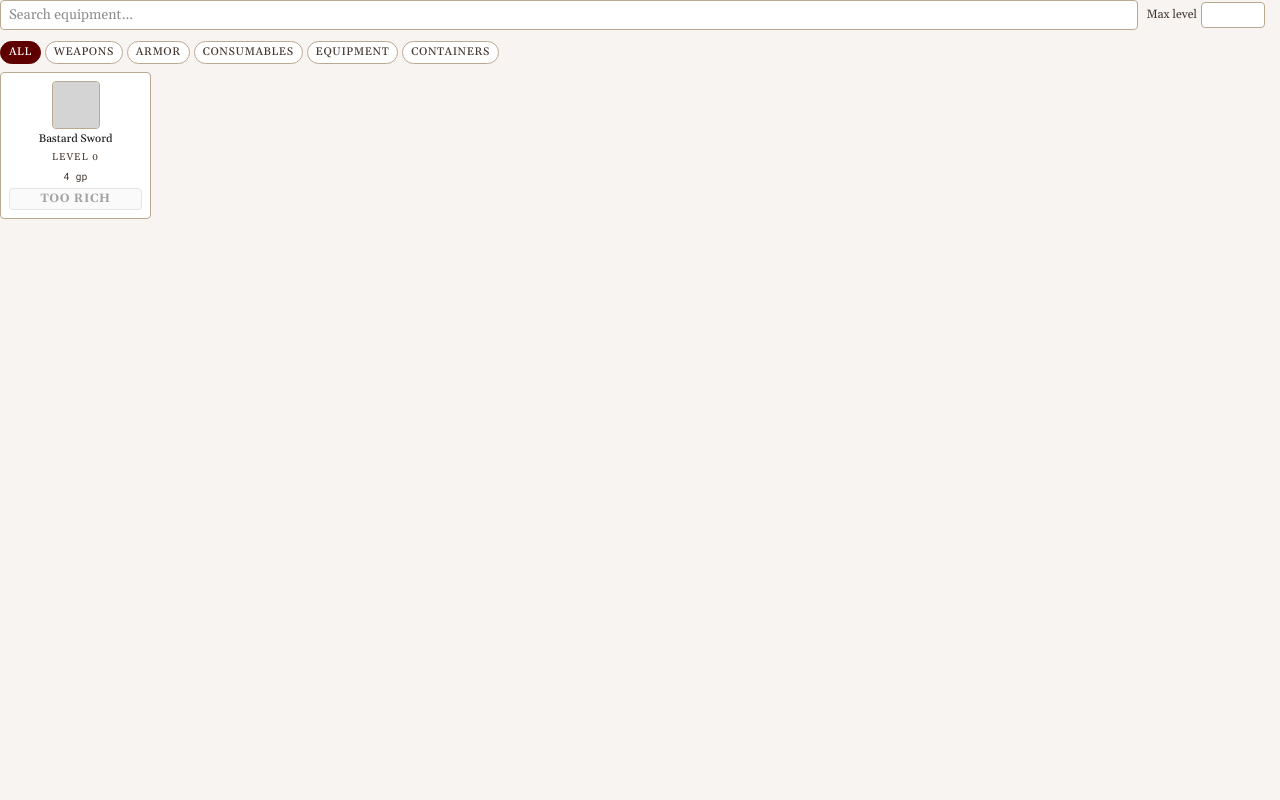
Test case: ItemShopPicker — detail overlay › closes the detail overlay via the × button
Click the button with test id "shop-tile" at (76, 145), box [0, 72, 151, 219]
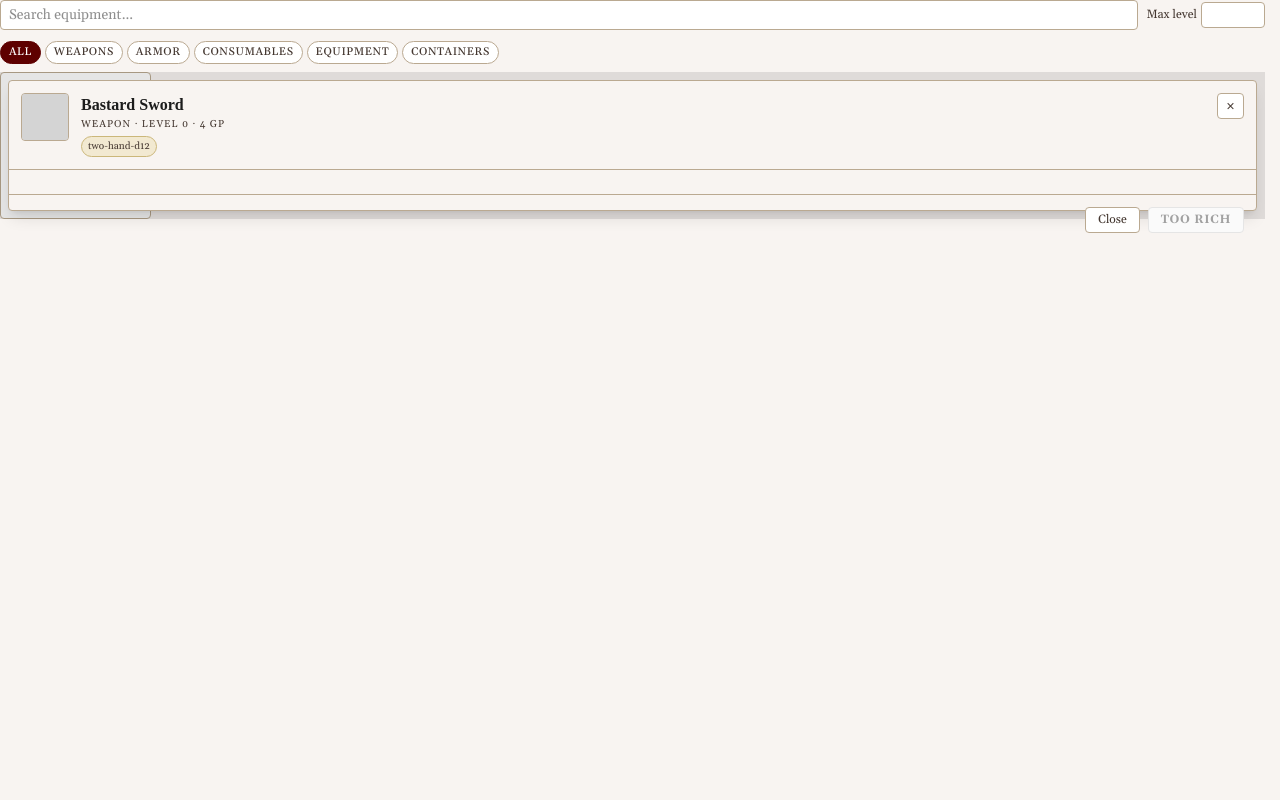
Check: the button with test id "shop-detail-close" is shown
Click the button with test id "shop-detail-close" at (1230, 106), box [1217, 92, 1244, 118]
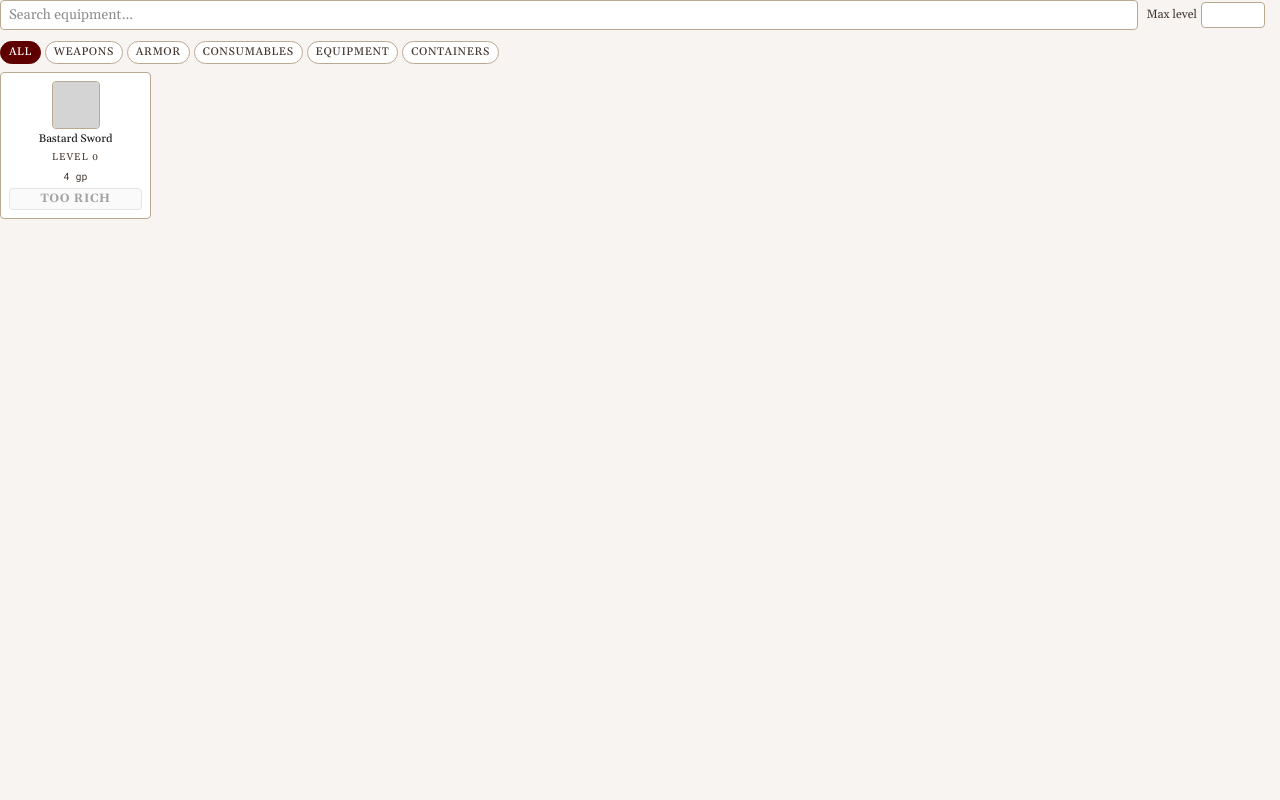
Check: the dialog with test id "shop-item-detail" is gone
